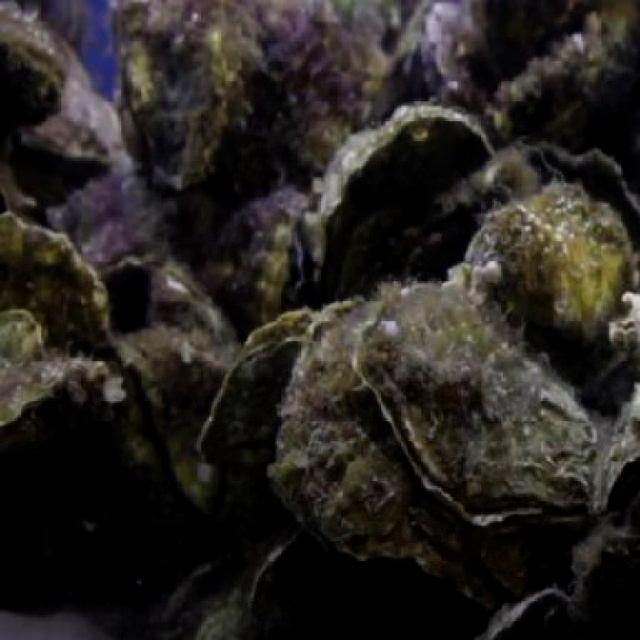Oyster-Closed: (112, 6, 440, 218), (301, 104, 504, 305), (266, 319, 420, 562), (468, 184, 625, 352), (44, 182, 212, 300), (0, 216, 119, 376), (358, 0, 492, 140), (196, 312, 307, 480), (212, 189, 315, 339), (10, 98, 135, 206), (135, 255, 237, 345), (1, 347, 100, 438), (0, 8, 70, 133), (0, 307, 46, 378)
Oyster-Open: (341, 284, 596, 519), (483, 7, 640, 192), (112, 329, 238, 519), (397, 494, 547, 620), (474, 580, 602, 640), (598, 389, 639, 505)
